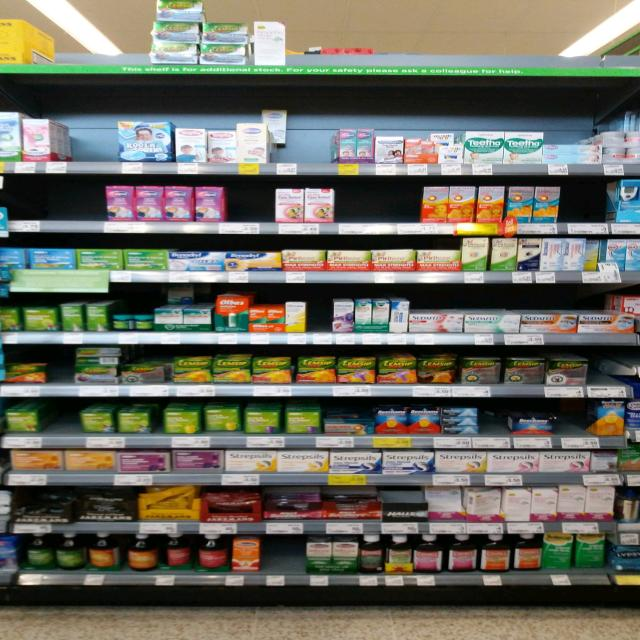void: (291, 0, 640, 64), (37, 0, 145, 64), (0, 174, 100, 221), (336, 176, 416, 221), (292, 89, 336, 163), (61, 102, 114, 161), (224, 175, 272, 221), (562, 177, 605, 222), (261, 534, 299, 574), (378, 488, 422, 522), (42, 398, 78, 434), (308, 283, 332, 332), (555, 400, 585, 436)
